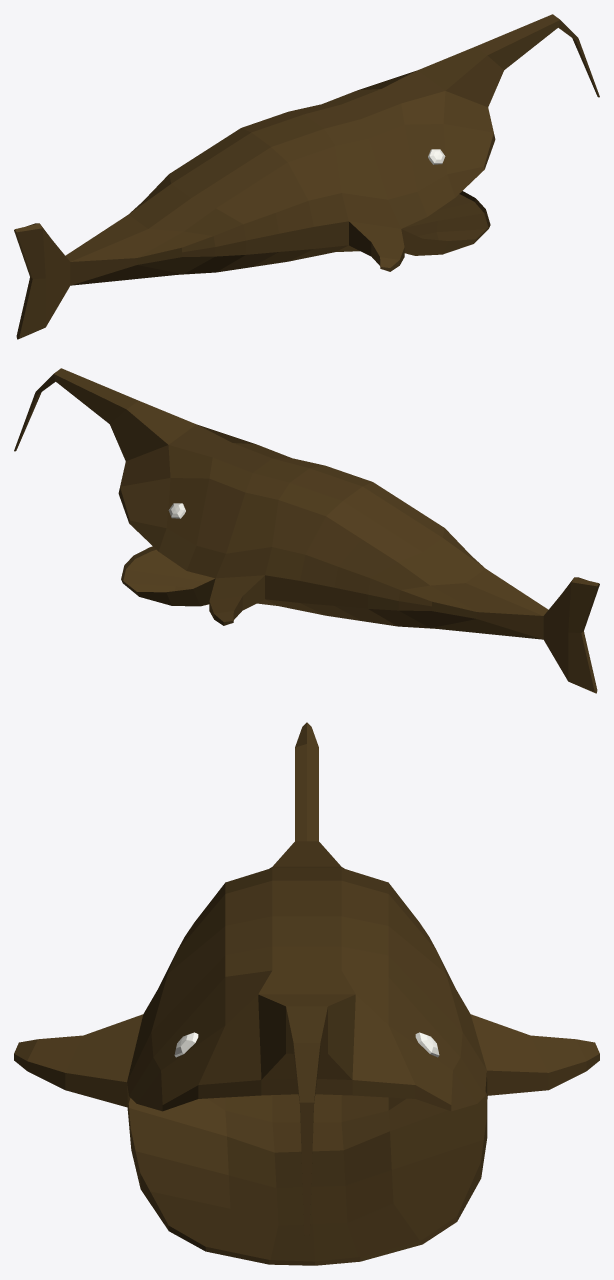
File: bigmouthfish.fbx
3 renders of one model, top to bottom at view 1: azimuth 30°, elevation 25°; view 2: azimuth 150°, elevation 25°; view 3: azimuth 270°, elevation 25°, orthographic. The views are drawn at different scales.
Visible parts, largest first — view 1: fish; view 2: fish; view 3: fish.
Part boxes in pixels (x1,y1,x2,y2): fish: (14, 14, 599, 339); fish: (14, 368, 599, 693); fish: (14, 722, 599, 1265).
Bounding box in the file's own units: 3249 × 1016 × 1621.
